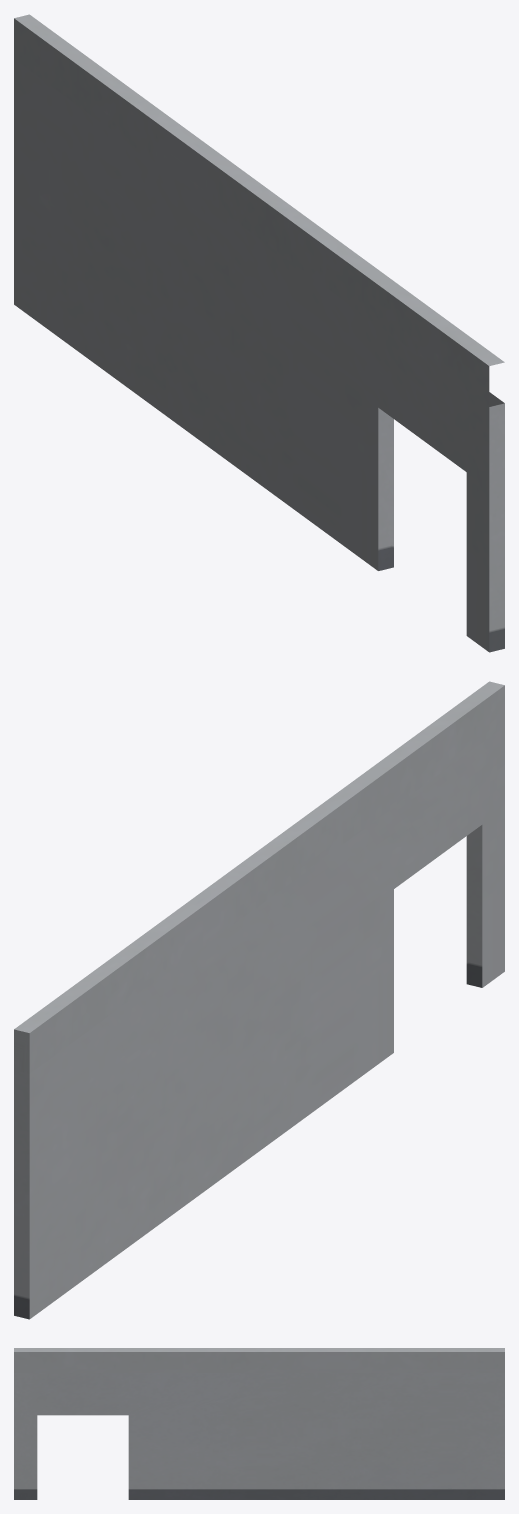
File: BgMD_Tanihira_Wall_0501.fbx
The picture shows the model from 3 angles, top to bottom: view 1: azimuth 30°, elevation 25°; view 2: azimuth 150°, elevation 25°; view 3: azimuth 270°, elevation 25°; orthographic projection. The views are drawn at different scales.
Visible parts, largest first — view 1: polySurface169; view 2: polySurface169; view 3: polySurface169.
Part boxes in pixels (box(x1,y1,x2,y2)): polySurface169: box(14, 14, 504, 652); polySurface169: box(14, 681, 504, 1319); polySurface169: box(14, 1348, 504, 1499).
Size of the model in its own units: 20 by 350 by 1053.
